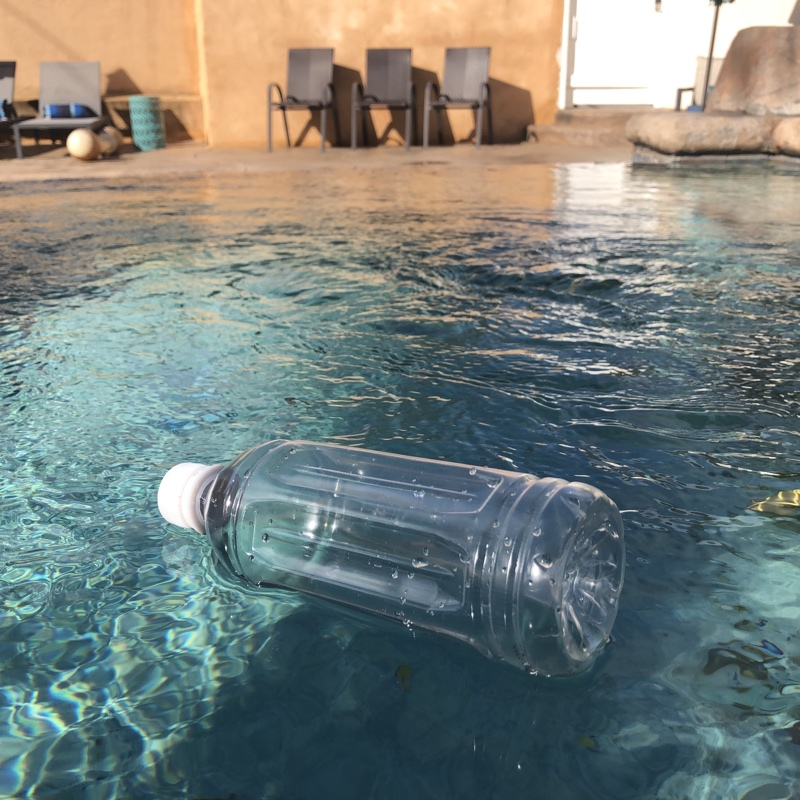Plastic Bottle: (153, 434, 632, 682)
